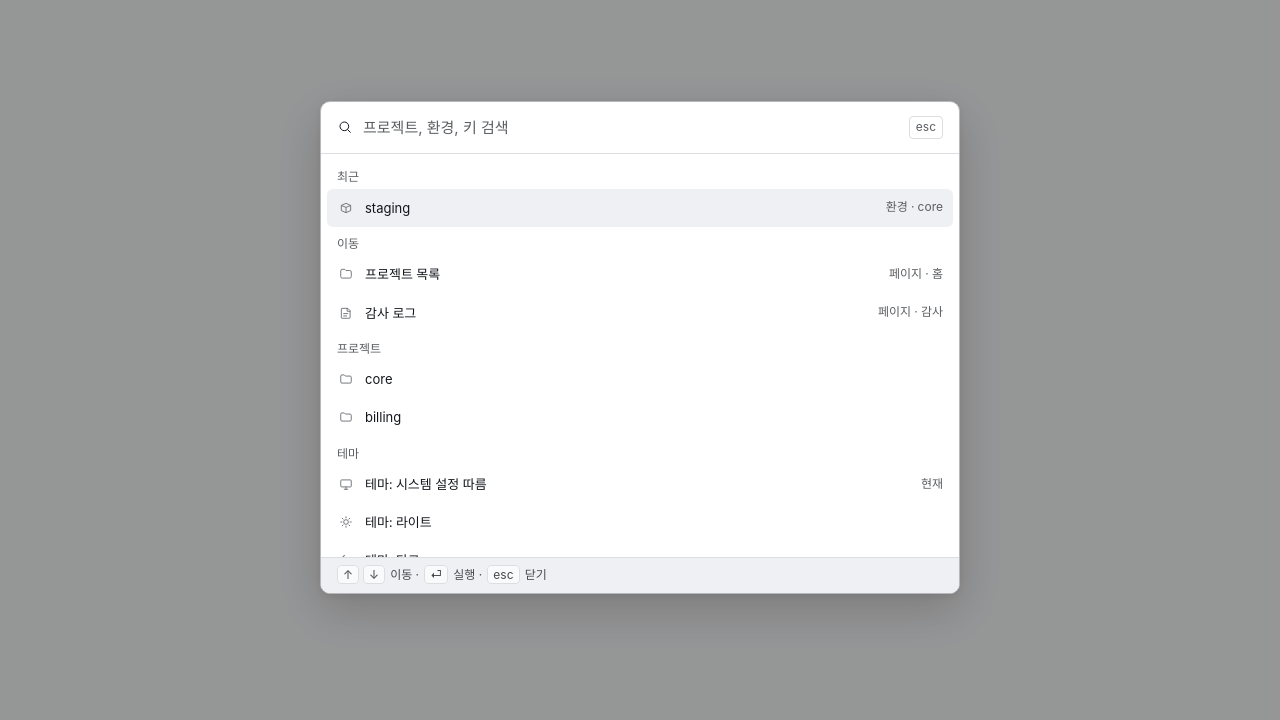
Test: CommandPalette › shows the 최근 group after pushRecent and hides it once the operator types
The width and height of the screenshot is (1280, 720).
expect the element named "최근" shows "staging": met, box [365,200,410,216]
expect the element named "최근" shows "환경 · core": met, box [886,199,943,214]
Note: Typing hides 최근 (positional, not match-relevant)
Type "core" into the dropdown with placeholder "프로젝트, 환경, 키 검색". click: (631, 127)
box: [363,116,899,139]
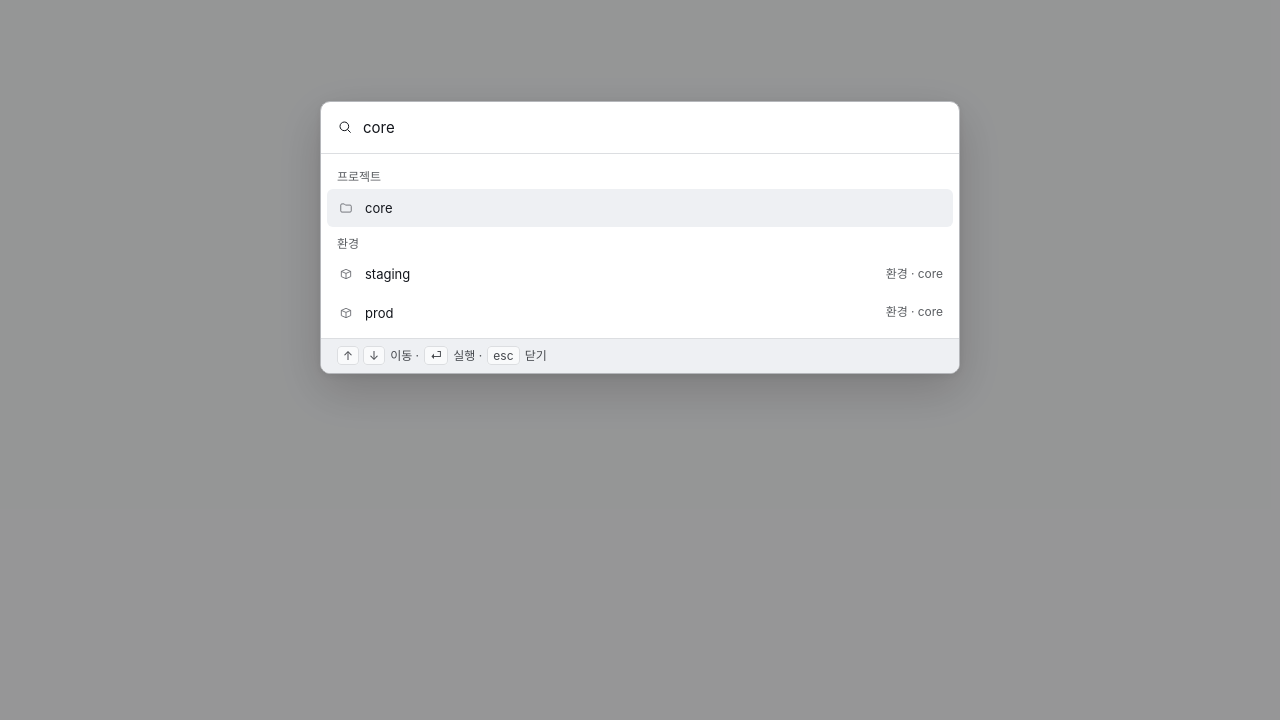
expect the text "최근" is gone: met
